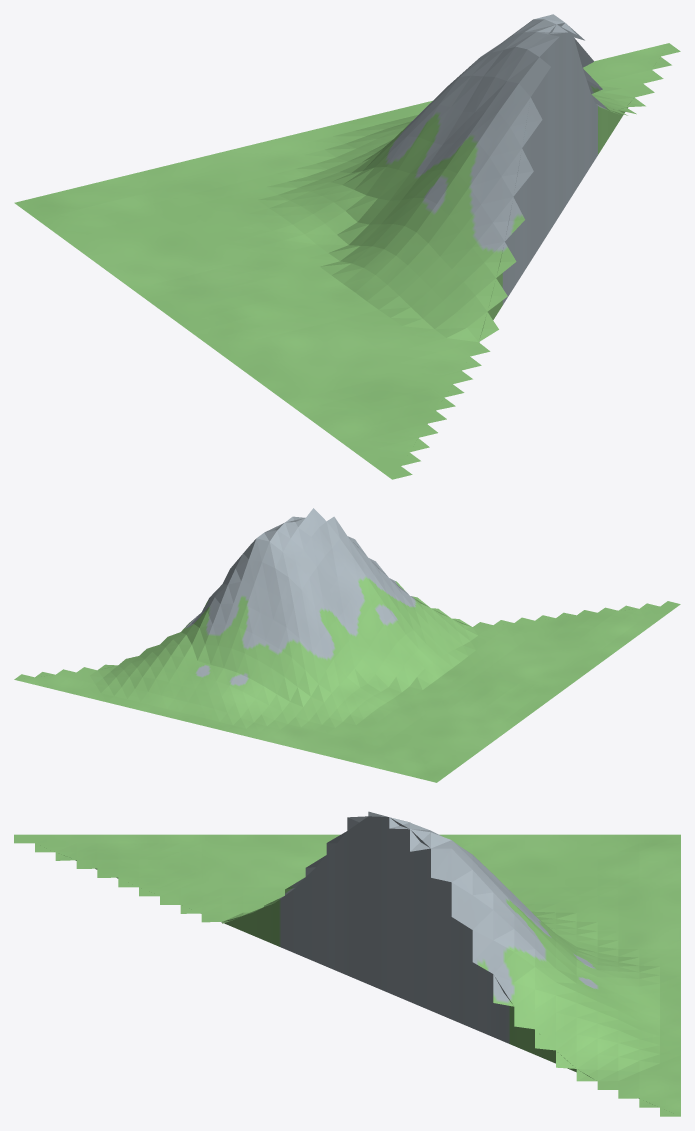
File: Grass_RockyMountains_01_SW.obj
The picture shows the model from 3 angles, top to bottom: view 1: azimuth 30°, elevation 25°; view 2: azimuth 150°, elevation 25°; view 3: azimuth 270°, elevation 25°; orthographic projection. The views are drawn at different scales.
Size of the model in its own units: 10 by 3.01 by 10.
Materials: 1 (1 with a texture image).
